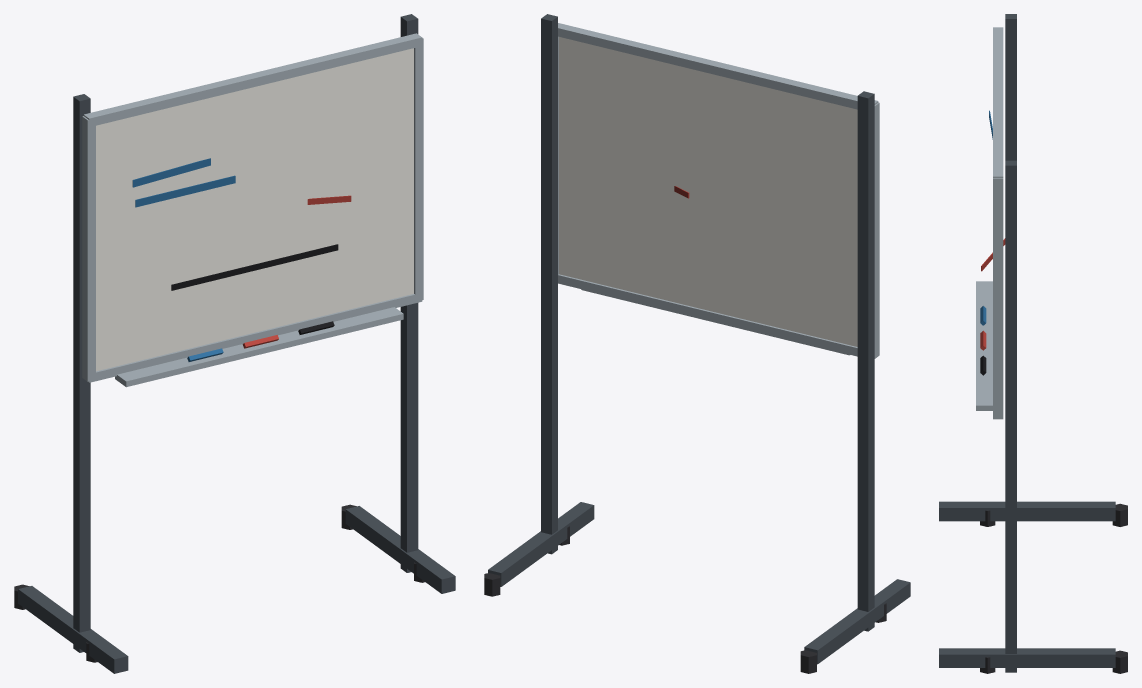
The model's file is GO_Whiteboard_Stand_01.glb.
The picture shows the model from 3 angles, left to right: view 1: azimuth 30°, elevation 25°; view 2: azimuth 150°, elevation 25°; view 3: azimuth 270°, elevation 25°; orthographic projection. The views are drawn at different scales.
Visible parts, largest first — view 1: GO_Whiteboard_Stand_01; view 2: GO_Whiteboard_Stand_01; view 3: GO_Whiteboard_Stand_01.
Boxes of the visible parts, x1,y1,x2,y2 form: GO_Whiteboard_Stand_01: [14, 14, 455, 673]; GO_Whiteboard_Stand_01: [484, 14, 910, 673]; GO_Whiteboard_Stand_01: [939, 14, 1127, 673].
Size of the model in its own units: 1.24 by 1.9 by 0.641.
Materials: 1 (1 with a texture image).
